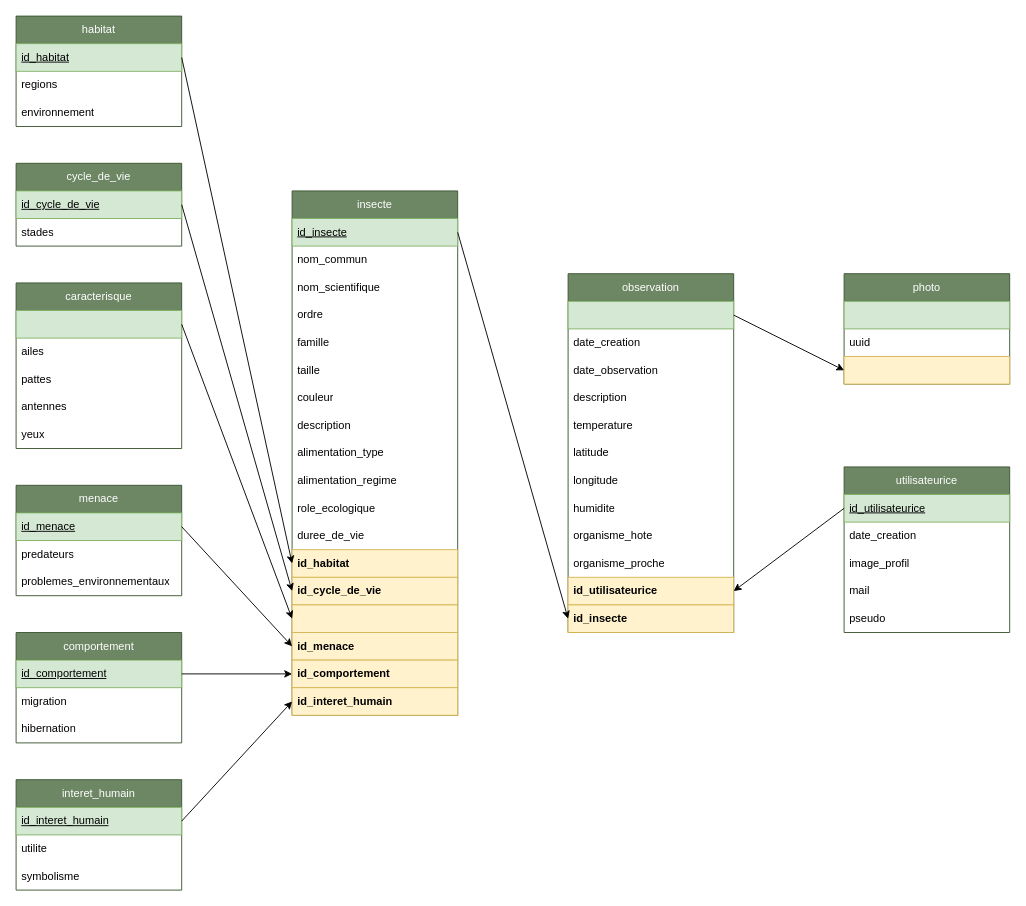
The diagram is 1026 pixels wide and 906 high, and some of its shapes have lost their labels. Each missing label, with the box of its shape:
id_caracterisque: (15, 310, 182, 338)
id_caracteristique: (291, 604, 458, 632)
id_observation: (567, 300, 734, 329)
id_photo: (843, 300, 1010, 329)
observation_id: (843, 356, 1010, 384)
